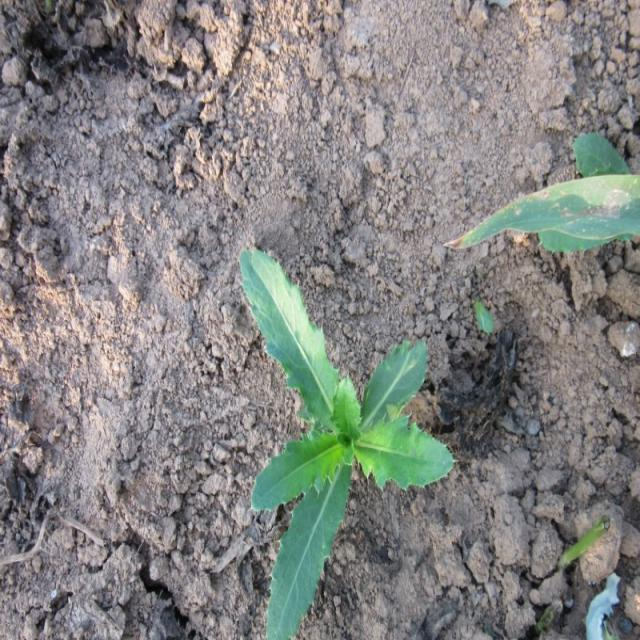cs: (238, 244, 457, 640)
